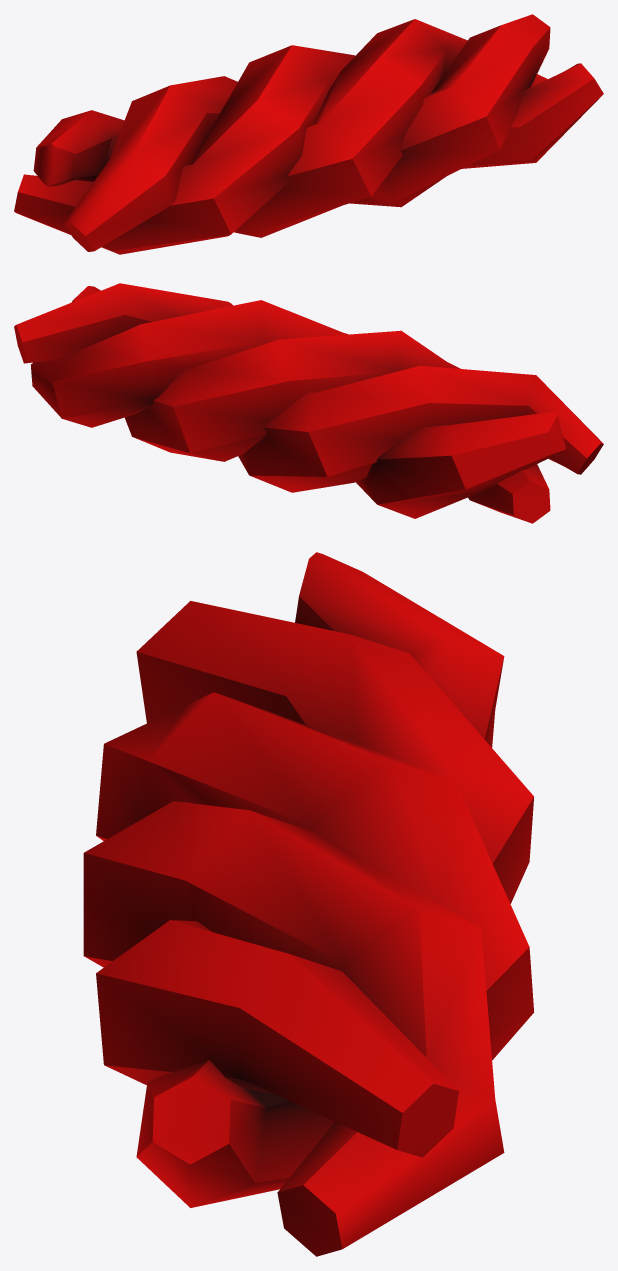
File: CI_Bakery_Loaf_Braided.glb
The picture shows the model from 3 angles, top to bottom: view 1: azimuth 30°, elevation 25°; view 2: azimuth 150°, elevation 25°; view 3: azimuth 270°, elevation 25°; orthographic projection. The views are drawn at different scales.
Visible parts, largest first — view 1: CI_Bakery_Loaf_Braided; view 2: CI_Bakery_Loaf_Braided; view 3: CI_Bakery_Loaf_Braided.
Part boxes in pixels (<box>): CI_Bakery_Loaf_Braided: <box>14,14,603,254</box>; CI_Bakery_Loaf_Braided: <box>14,283,603,523</box>; CI_Bakery_Loaf_Braided: <box>83,552,533,1256</box>.
Bounding box in the file's own units: 0.3357 × 0.091 × 0.122.
